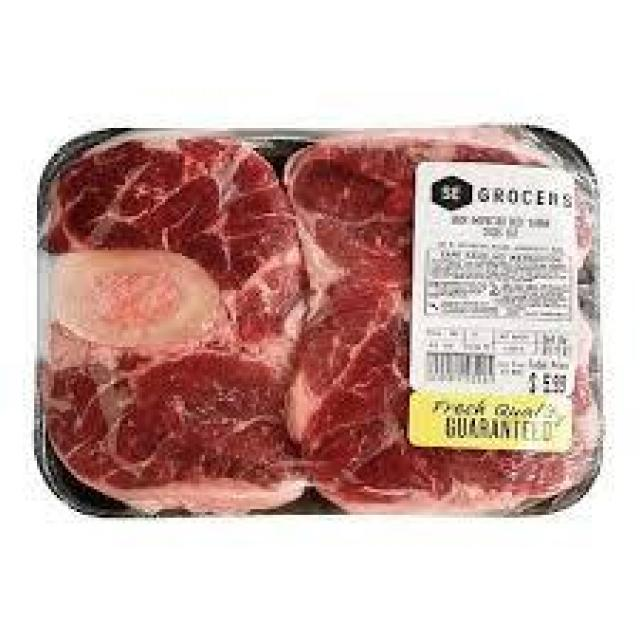Beef: (38, 135, 311, 523)
